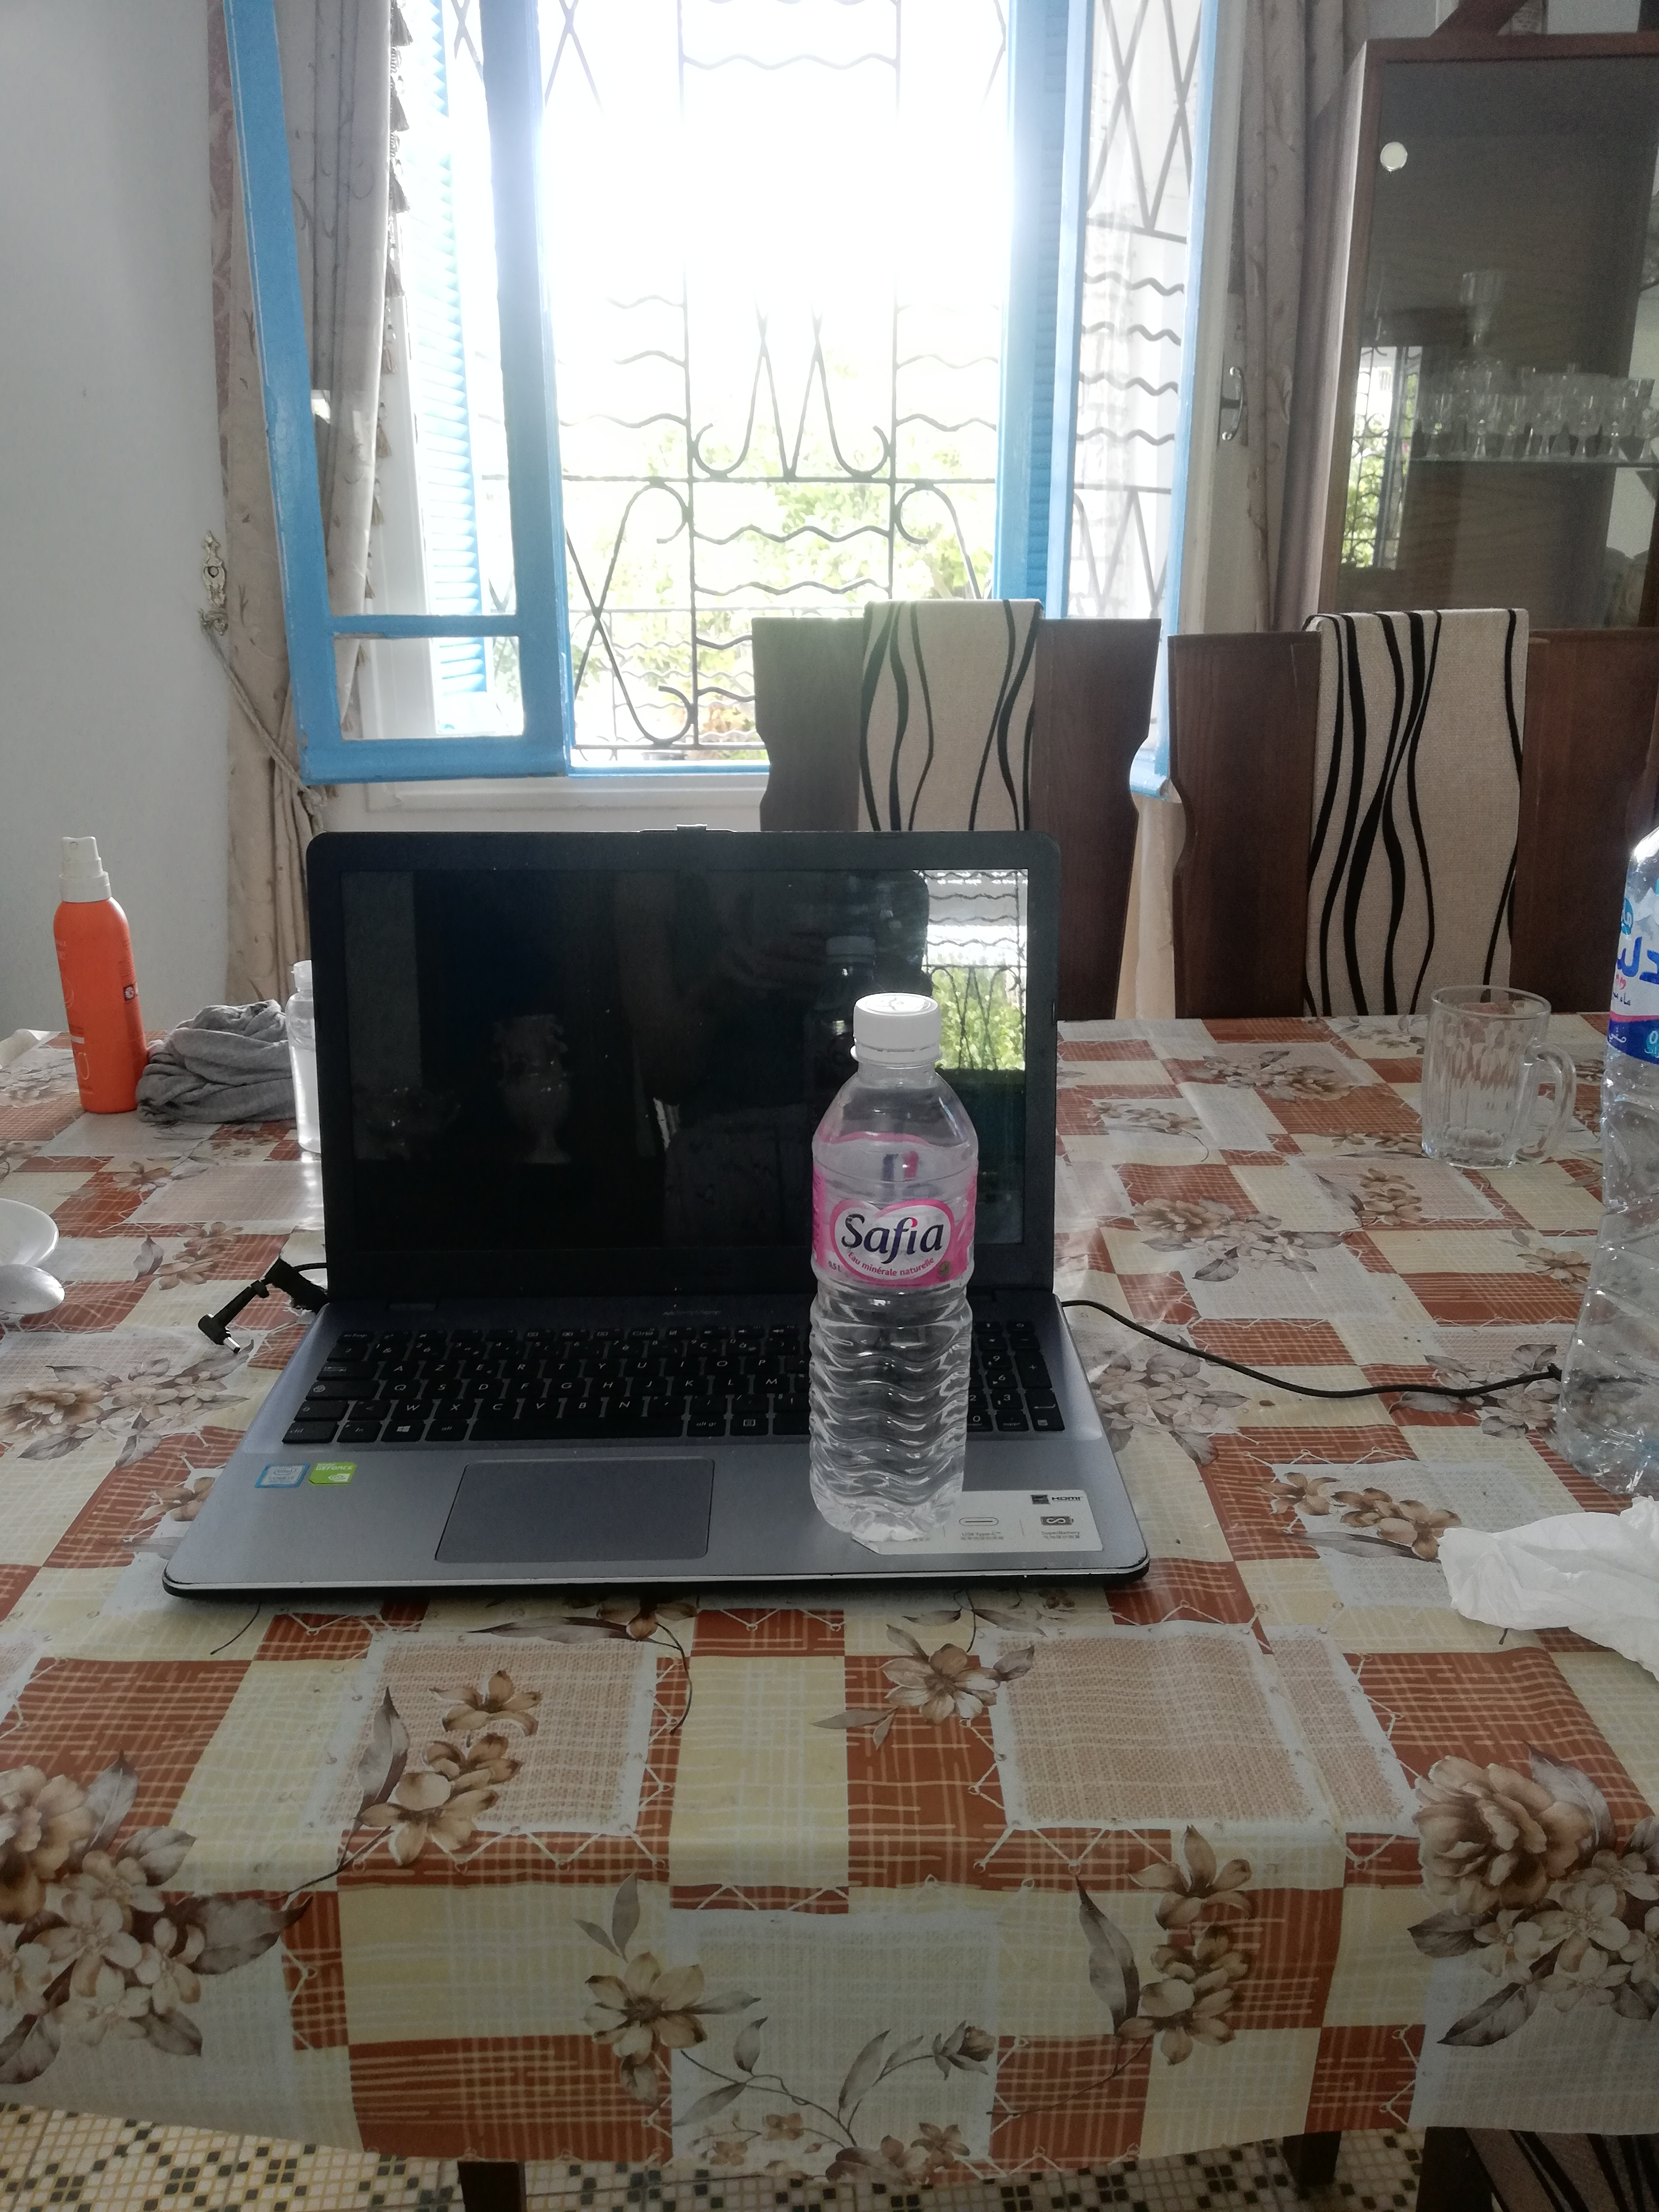Eau safia: (802, 993, 983, 1538)
